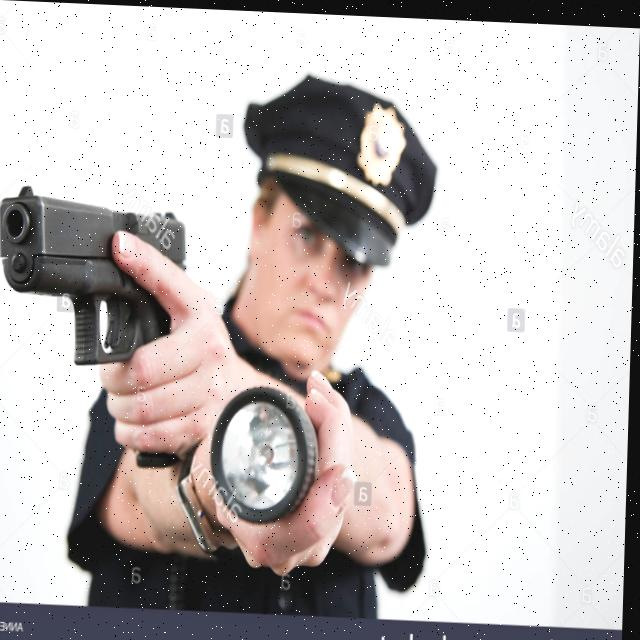pistol: (0, 183, 191, 371)
